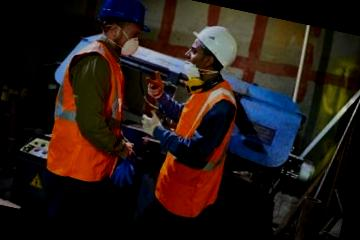helmet: (180, 18, 248, 72), (91, 0, 160, 35)
person: (28, 0, 169, 224), (124, 12, 257, 240)
